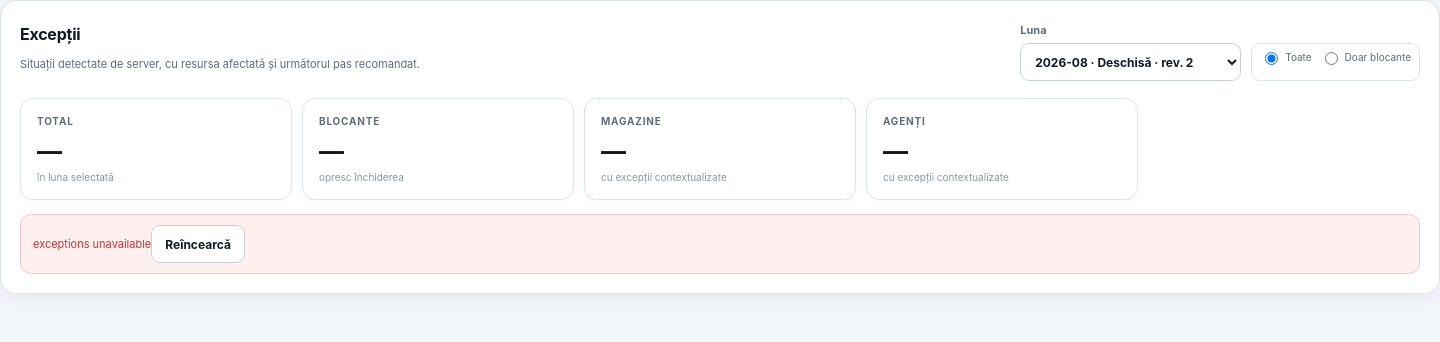
FE-010 request state contract › keeps Exceptions error distinct from empty and supports explicit retry
The image size is (1440, 342).
Expected: the message shows "exceptions unavailable", [33,238,151,252]
Expected: the text "Nicio excepție deschisă." is not shown
Click the button "Reîncearcă" at {"x": 198, "y": 244}, box [151,225,245,263]
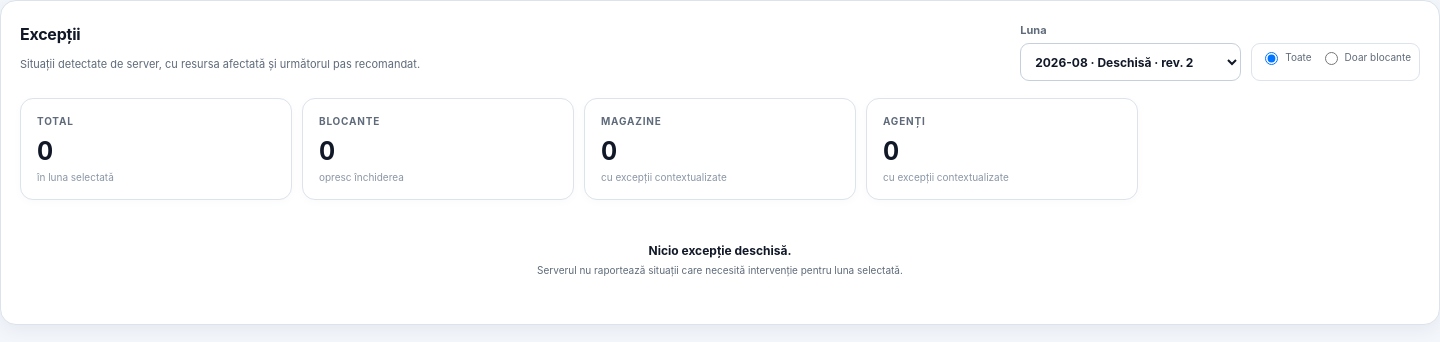
Expected: the text "Nicio excepție deschisă." is shown, [649,243,792,258]
